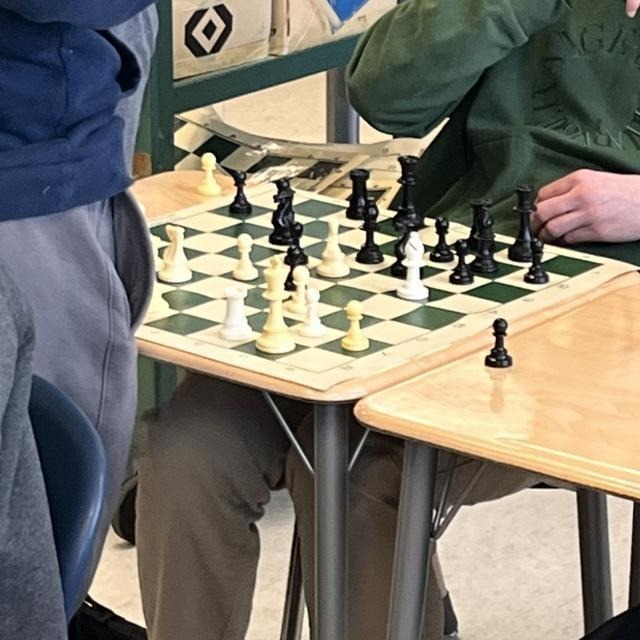black-bishop: (356, 195, 384, 264), (472, 210, 500, 276)
black-king: (509, 182, 541, 261)
black-knight: (388, 219, 424, 277), (269, 190, 299, 246)
black-pawn: (485, 318, 513, 368), (524, 237, 551, 286), (449, 237, 474, 286), (428, 216, 453, 263), (283, 221, 308, 265), (229, 171, 251, 215)
black-queen: (393, 153, 423, 232)
black-rook: (469, 196, 495, 253), (346, 168, 373, 219)
white-bishop: (395, 231, 430, 300)
white-king: (253, 254, 297, 354)
white-knight: (315, 216, 353, 278), (157, 224, 193, 284)
white-pawn: (340, 298, 370, 350), (299, 289, 328, 338), (232, 232, 259, 282), (286, 265, 311, 315), (197, 151, 223, 197)
white-rook: (220, 282, 253, 341)
